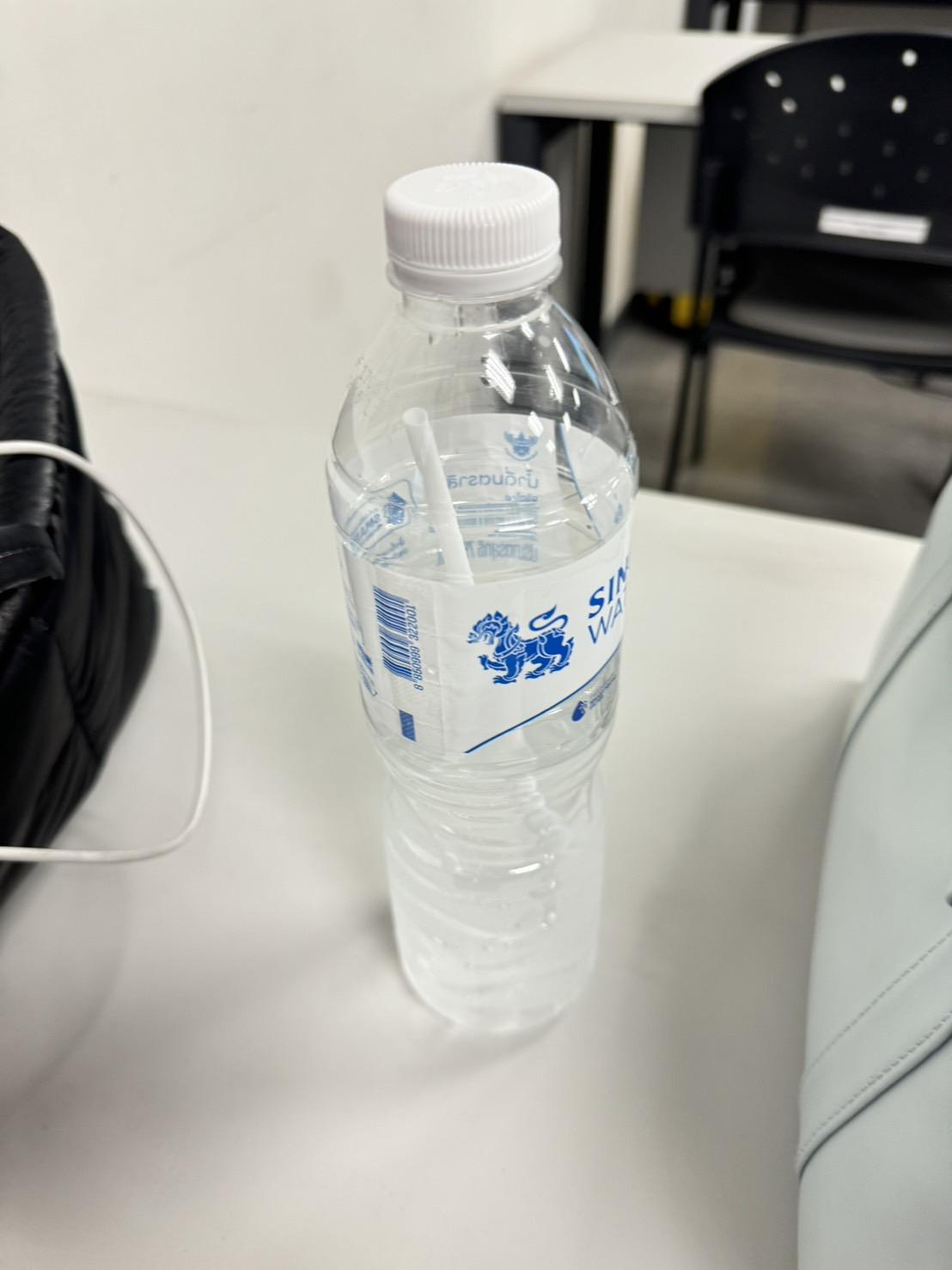Bottle: (328, 163, 637, 1029)
